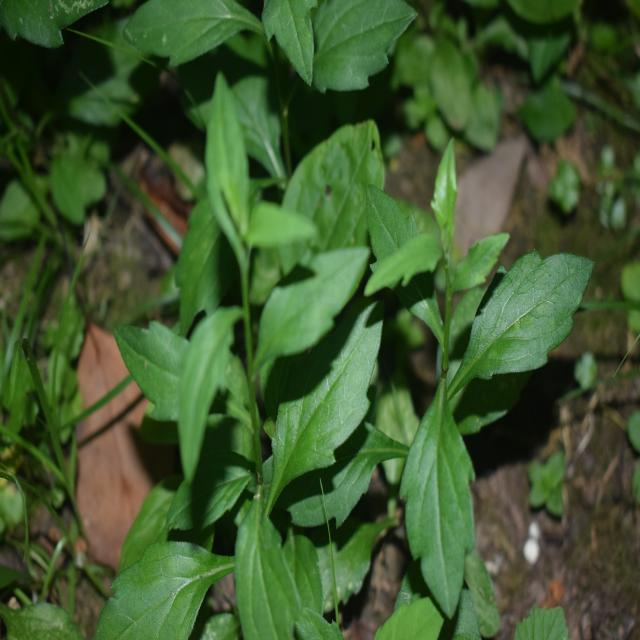Indian aster: (142, 123, 362, 624), (373, 122, 571, 570)
